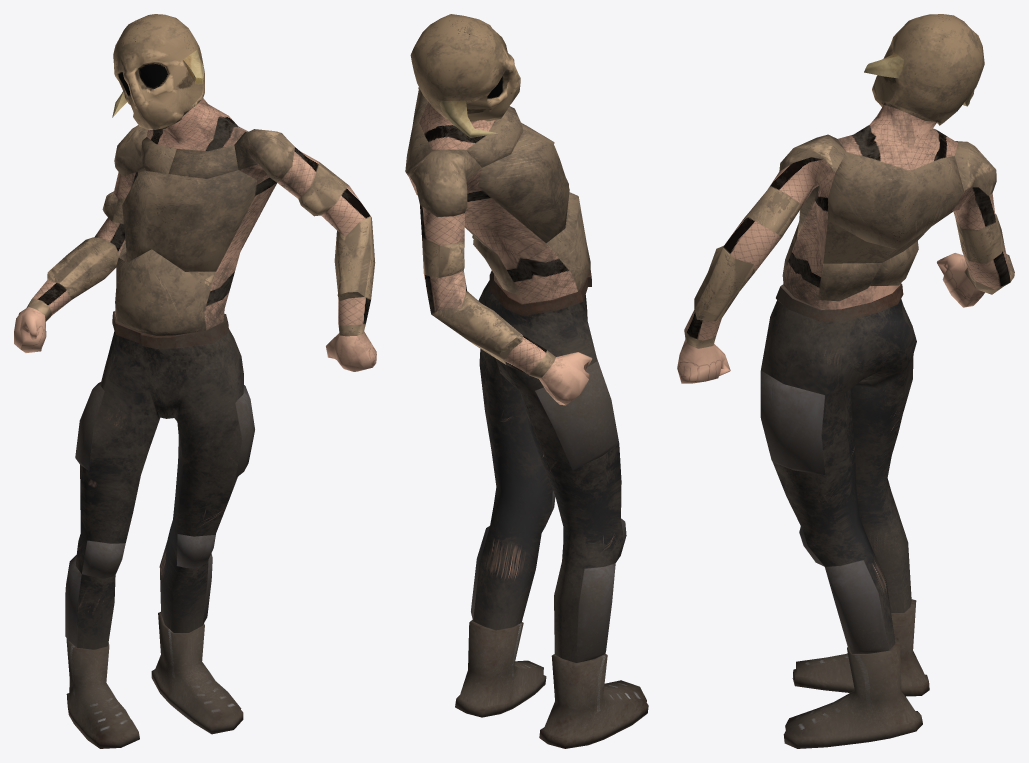
File: Anim_recibirdanyo_npc1.0017.obj
3 views of the same model, side by side, from view 1: azimuth 30°, elevation 25°; view 2: azimuth 150°, elevation 25°; view 3: azimuth 270°, elevation 25° (orthographic). The views are drawn at different scales.
Parts seen in each view (by area): view 1: NPC2; view 2: NPC2; view 3: NPC2.
Part boxes in pixels (x1,y1,x2,y2): NPC2: (14, 14, 376, 748); NPC2: (405, 14, 648, 748); NPC2: (677, 14, 1014, 748).
Bounding box in the file's own units: 3.68 × 9.28 × 3.93.
